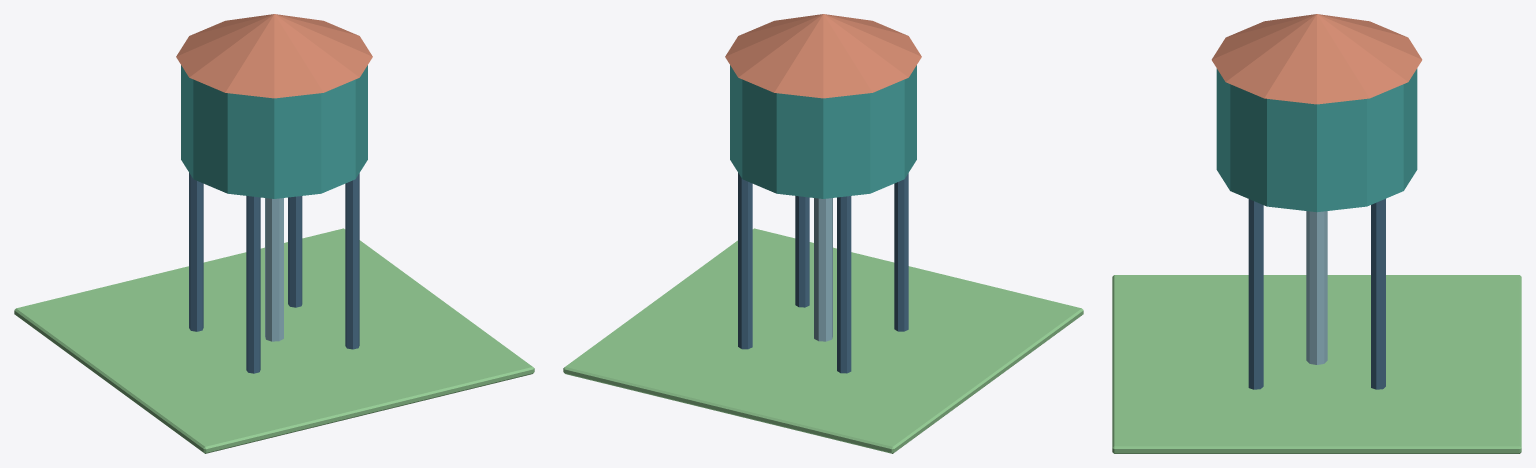
Rendered from UTIL_WATER_2x2_001.glb.
3 renders of one model, left to right at view 1: azimuth 30°, elevation 25°; view 2: azimuth 150°, elevation 25°; view 3: azimuth 270°, elevation 25°, orthographic. The views are drawn at different scales.
Visible parts, largest first — view 1: UTIL_WATER_2x2_001_Visual; view 2: UTIL_WATER_2x2_001_Visual; view 3: UTIL_WATER_2x2_001_Visual.
Boxes of the visible parts, x1=… form: UTIL_WATER_2x2_001_Visual: x1=14, y1=14, x2=534, y2=453; UTIL_WATER_2x2_001_Visual: x1=563, y1=14, x2=1083, y2=453; UTIL_WATER_2x2_001_Visual: x1=1112, y1=14, x2=1521, y2=453.
Size of what is drawn, in the model's own units: 3.88 by 3.7 by 3.88.
